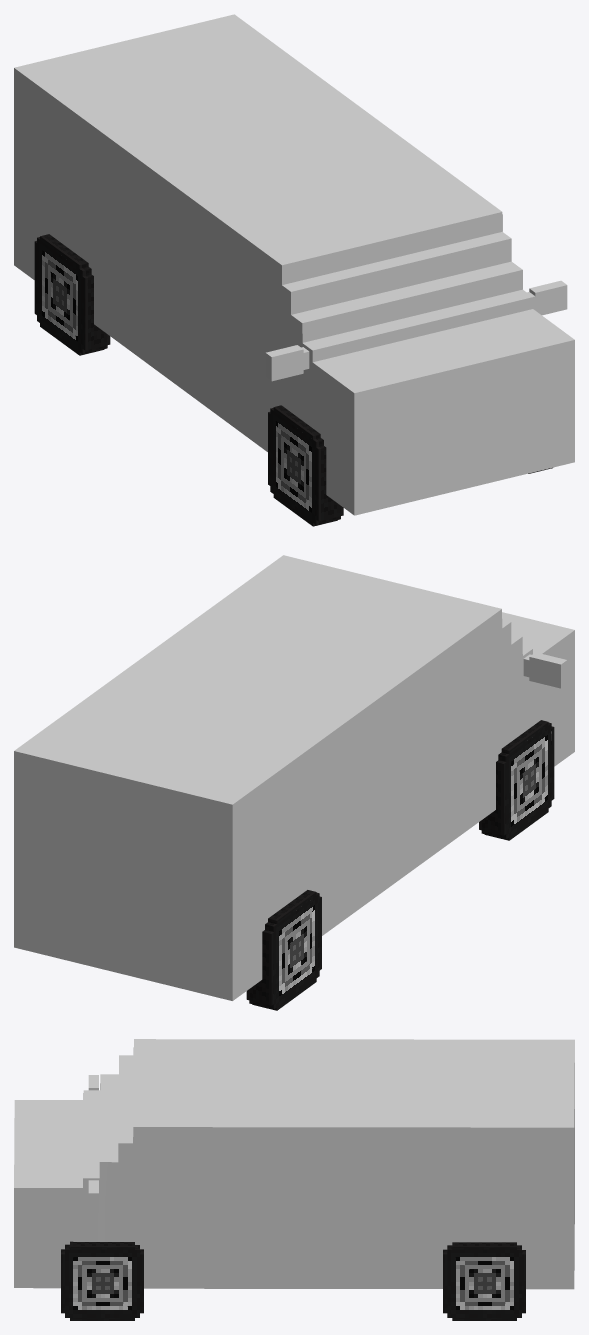
File: BGN_EXPRESS.fbx
3 renders of one model, top to bottom at view 1: azimuth 30°, elevation 25°; view 2: azimuth 150°, elevation 25°; view 3: azimuth 270°, elevation 25°, orthographic. The views are drawn at different scales.
Visible parts, largest first — view 1: BGN_EXPRESS, TIRE__6_, TIRE__5_; view 2: BGN_EXPRESS, TIRE__6_, TIRE__5_; view 3: BGN_EXPRESS, TIRE__7_, TIRE__8_.
Boxes of the visible parts, x1,y1,x2,y2 form: BGN_EXPRESS: (14,14,574,515); TIRE__6_: (34,234,110,355); TIRE__5_: (268,405,343,526); BGN_EXPRESS: (14,555,574,1000); TIRE__6_: (246,890,321,1010); TIRE__5_: (479,720,554,840); BGN_EXPRESS: (14,1039,574,1289); TIRE__7_: (61,1241,143,1320); TIRE__8_: (443,1242,525,1320).
Bounding box in the file's own units: 269 × 201 × 540.
Materials: 2 (1 with a texture image).
